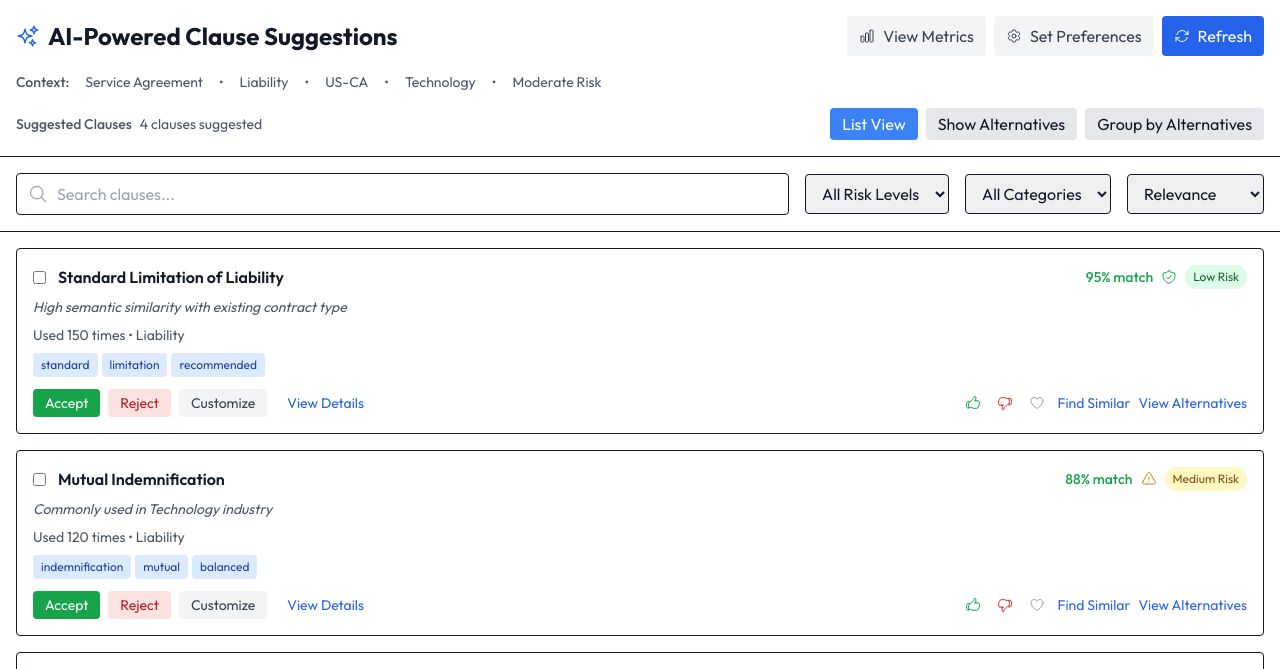
Test: ClauseSuggestions › Similar Clauses › should display similarity comparison
Step 1. Click the button "Find Similar" below "95" → click(1094, 403), box [1058,393,1130,413]
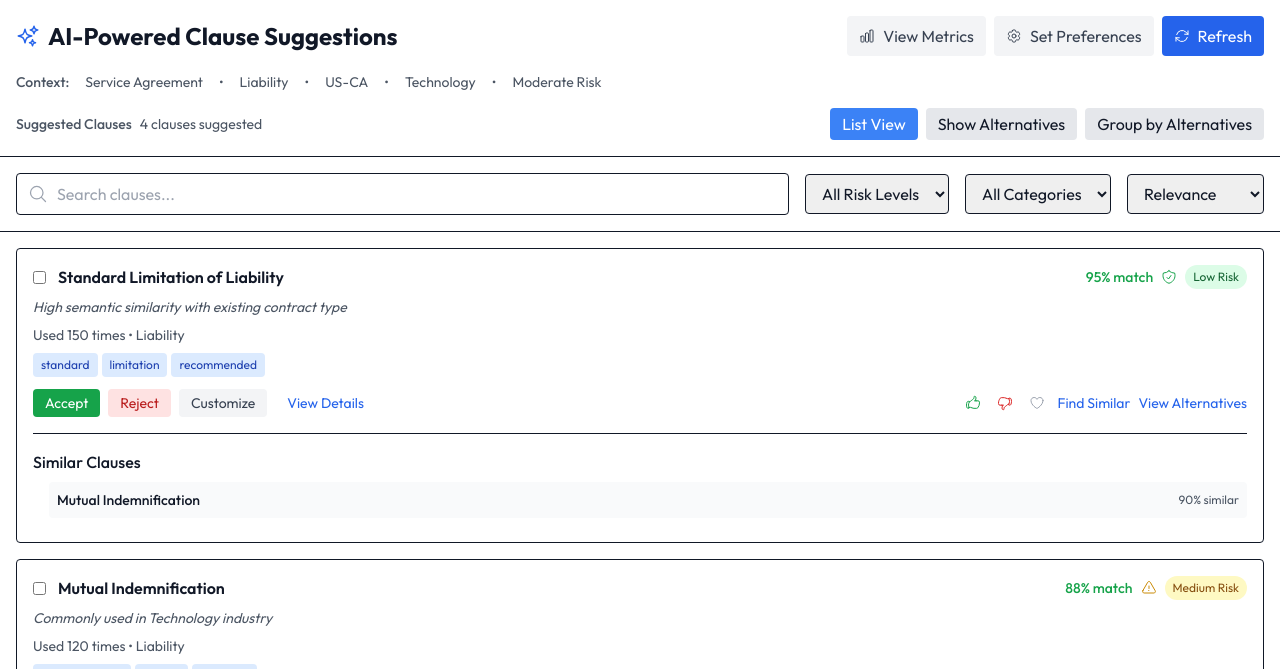
Now the text "90% similar" is shown, box [1178,492,1239,508]
